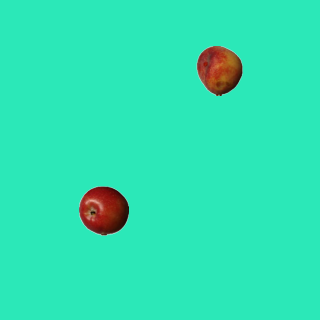Apple Braeburn: (78, 185, 128, 235)
Peach: (194, 45, 244, 95)
